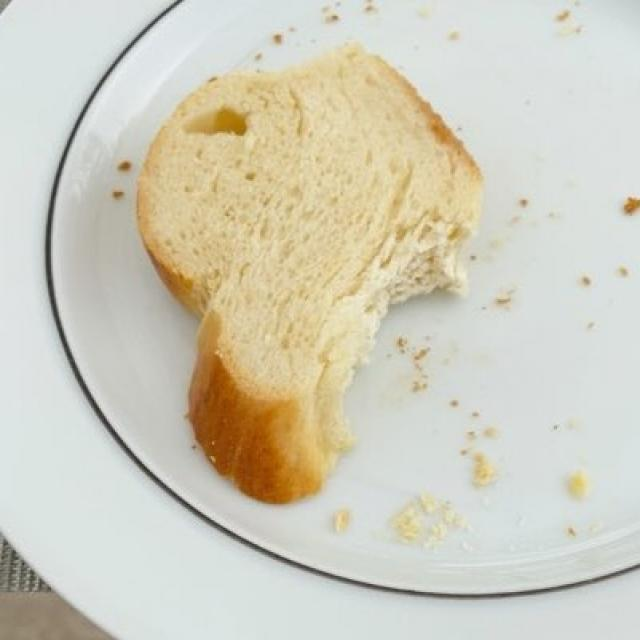bread: (140, 47, 473, 503)
